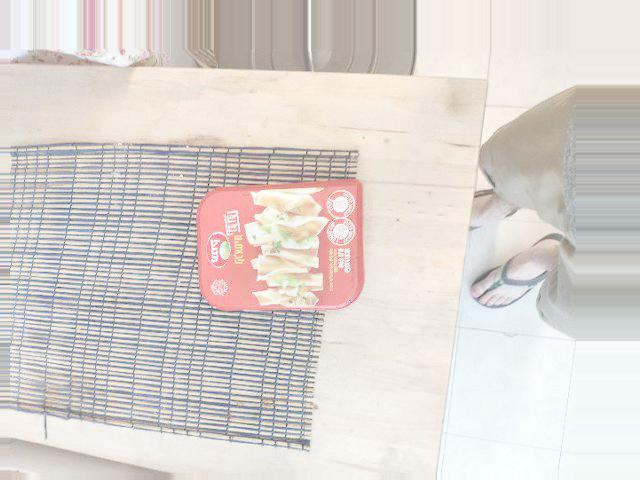cheese: (162, 247, 305, 399)
